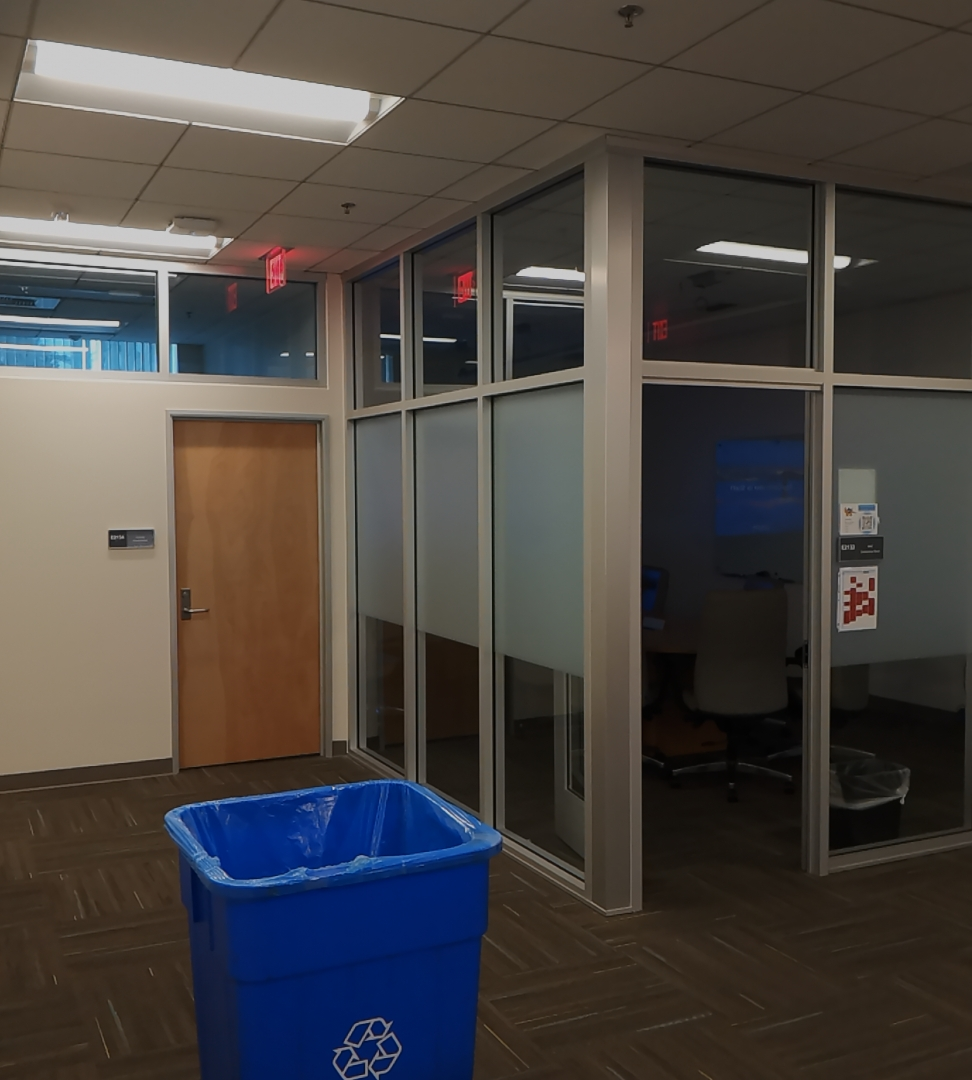emergency_exit: (836, 564, 880, 633), (258, 244, 289, 295)
